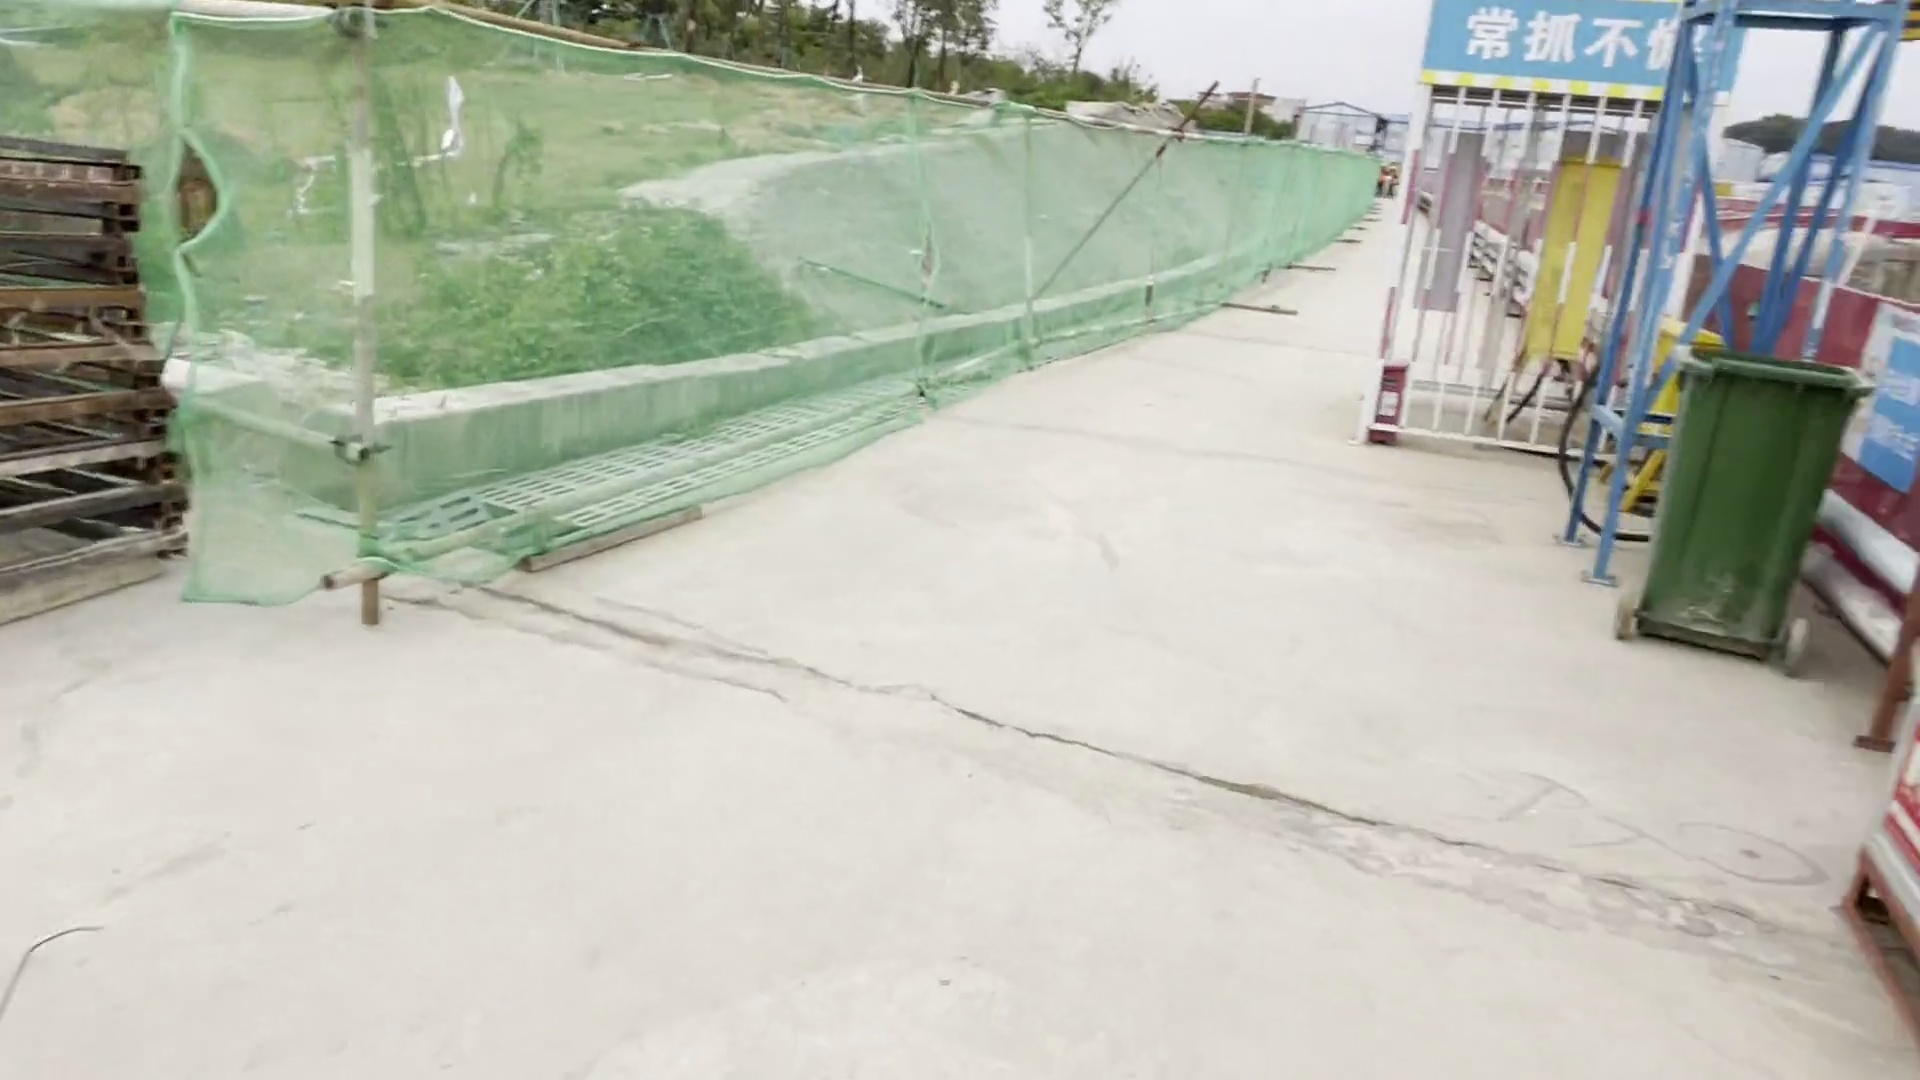slogan: (1447, 7, 1735, 84)
